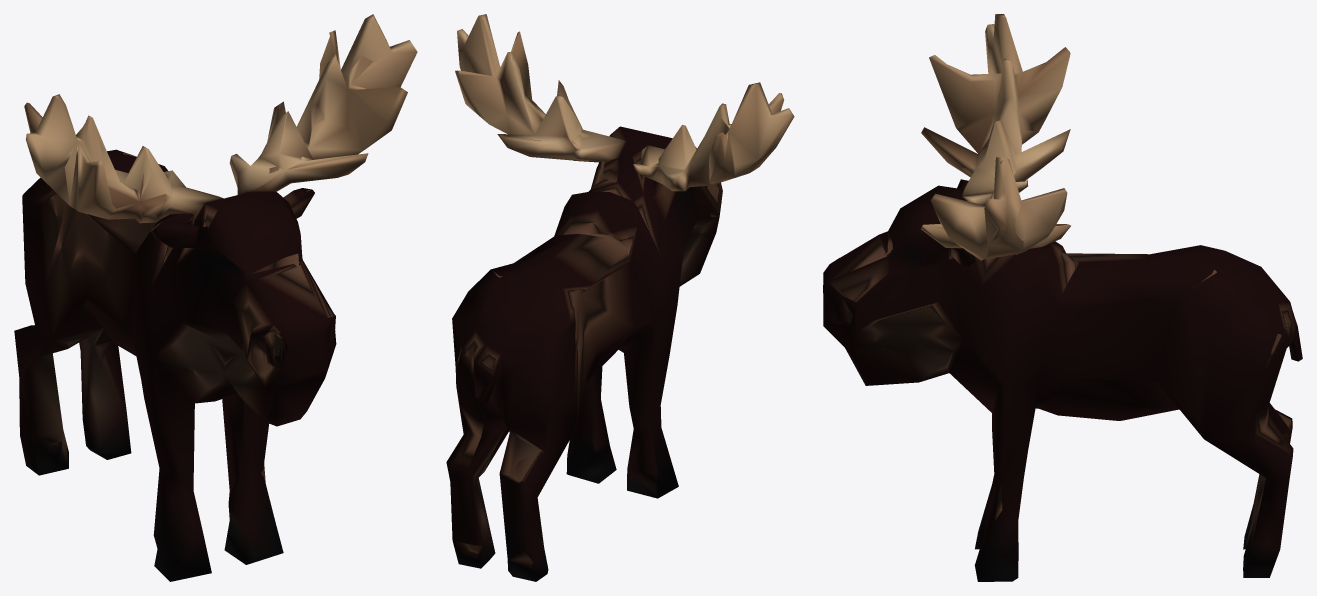
File: gen3d-moose-lod1.glb
3 views of the same model, side by side, from view 1: azimuth 30°, elevation 25°; view 2: azimuth 150°, elevation 25°; view 3: azimuth 270°, elevation 25° (orthographic). The views are drawn at different scales.
Parts seen in each view (by area): view 1: part_0; view 2: part_0; view 3: part_0.
Part boxes in pixels (x1,y1,x2,y2): part_0: [14, 14, 417, 581]; part_0: [446, 14, 794, 581]; part_0: [823, 14, 1302, 581].
Bounding box in the file's own units: 0.8032 × 0.997 × 0.9154.
